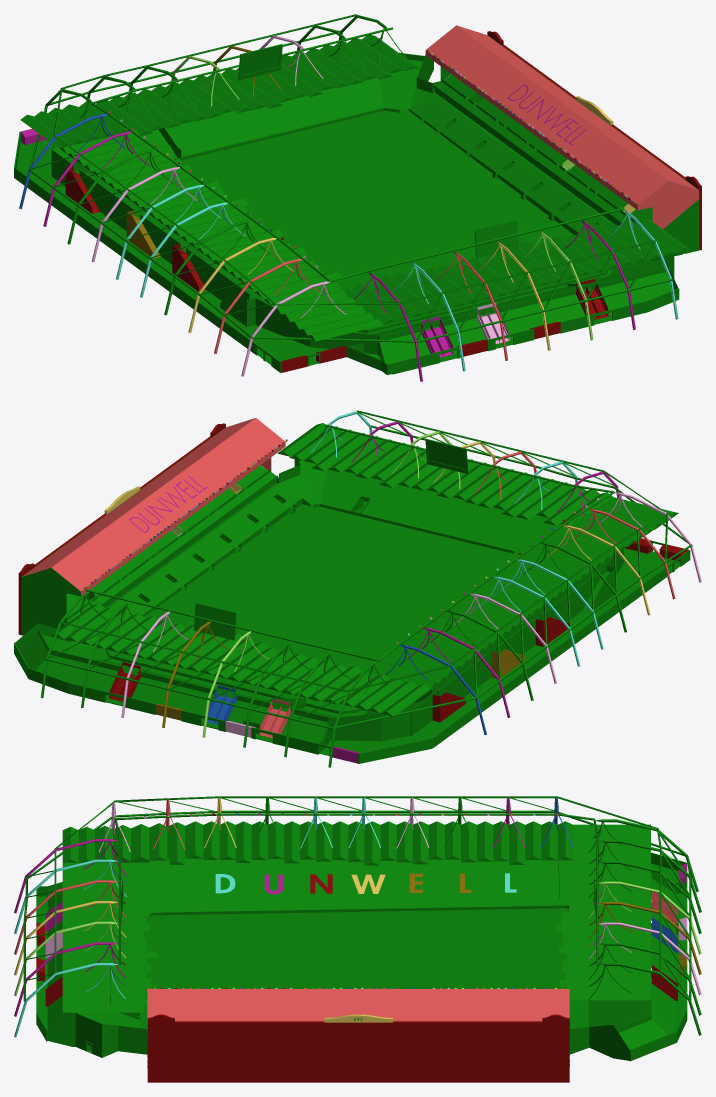
File: footballstadium2.obj
3 views of the same model, one above another, from view 1: azimuth 30°, elevation 25°; view 2: azimuth 150°, elevation 25°; view 3: azimuth 270°, elevation 25° (orthographic). The views are drawn at different scales.
Visible parts, largest first — view 1: Layer0_001, Group_028, Group_7_003, Group_030, Group_005, Group_007, Group_006, Group_8_007, Group_008, Group_8_011, Group_8_009, bars_029 (+9 smaller); view 2: Layer0_001, Group_028, Group_7_004, Group_030, Group_8_005, Group_008, Group_8_003, Group_005, Group_8_001, Group_007, Group_006, bars_029 (+9 smaller); view 3: Layer0_001, Group_030, Group_028, bars_033, bars_043, bars_003, bars_001, bars_031, bars_005, bars_039, bars_007, bars_009 (+4 smaller).
Boxes of the visible parts, x1,y1,x2,y2 form: Layer0_001: (14,14,699,374); Group_028: (425,25,697,209); Group_7_003: (637,180,698,229); Group_030: (487,31,701,250); Group_005: (65,165,99,213); Group_007: (172,244,206,291); Group_006: (126,210,160,258); Group_8_007: (420,316,453,357); Group_008: (220,296,254,326); Group_8_011: (576,278,608,319); Group_8_009: (477,303,509,343); bars_029: (241,281,346,376); Layer0_001: (14,410,692,767); Group_028: (22,418,285,595); Group_7_004: (21,567,80,621); Group_030: (18,423,225,634); Group_8_005: (259,699,290,738); Group_008: (582,566,615,612); Group_8_003: (207,685,236,724); Group_005: (432,692,465,722); Group_8_001: (109,662,140,701); Group_007: (535,617,568,646); Group_006: (491,649,524,678); bars_029: (599,492,701,582); Layer0_001: (23,796,701,1067); Group_030: (147,1014,569,1082); Group_028: (147,989,569,1021); bars_033: (14,859,127,934); bars_043: (14,963,125,1037); bars_003: (589,922,701,995); bars_001: (588,943,701,1015); bars_031: (14,839,126,913); bars_005: (588,902,701,974); bars_039: (14,921,126,996); bars_007: (588,881,701,954); bars_009: (588,840,701,912).
Size of the model in its own units: 144893 by 26675 by 181242.
